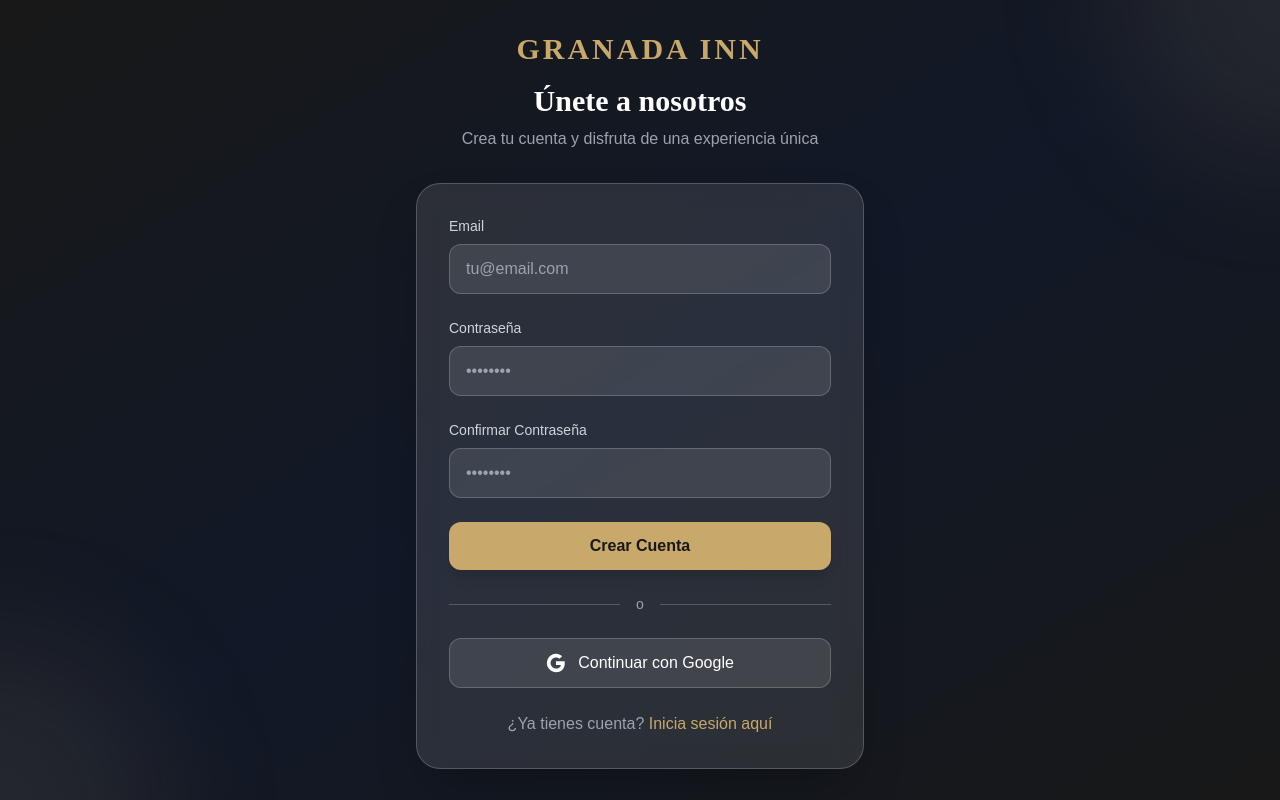
Test: Auth Pages › RegisterPage › validates password length
Type "test@example.com" into the field with placeholder "tu@email.com".
click(640, 269); type("test@example.com")  # box [449,244,831,294]
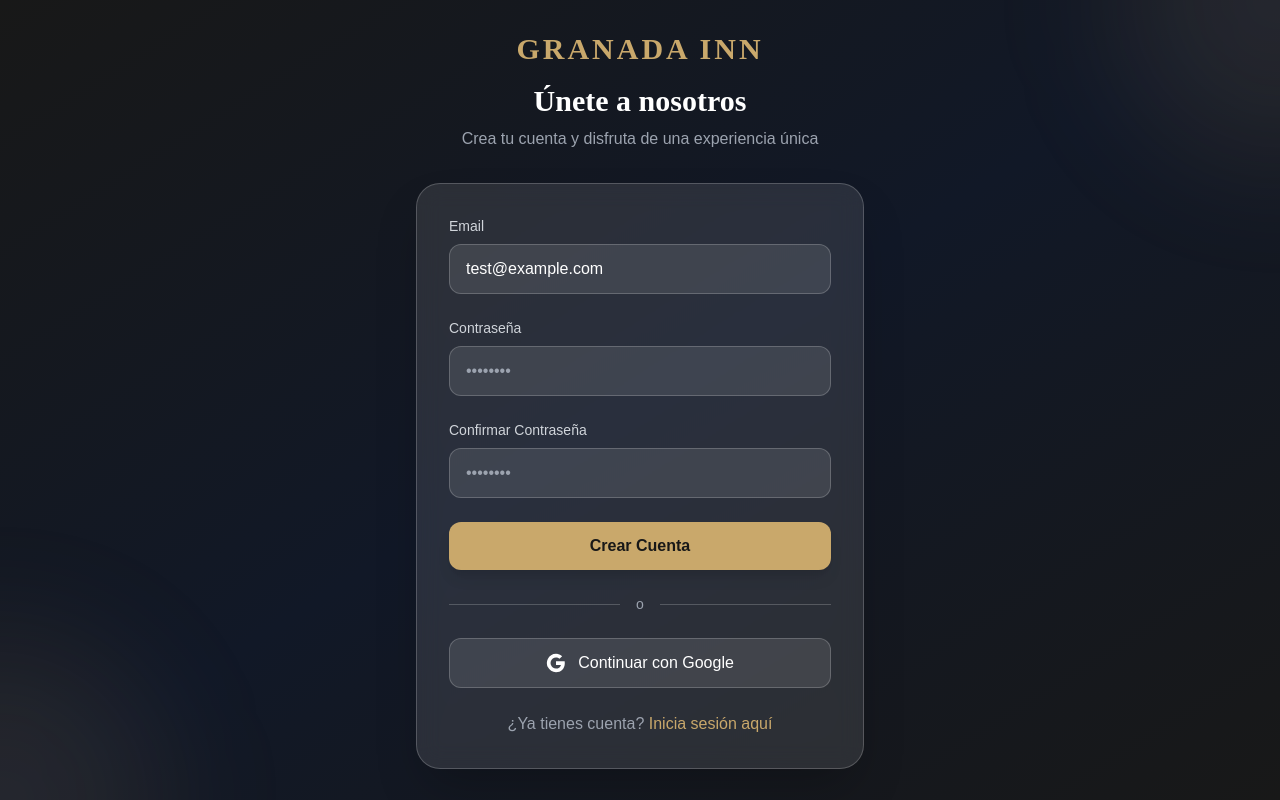
Type "123" into the 1st password field with placeholder "••••••••".
click(640, 371); type("123")  # box [449,346,831,396]
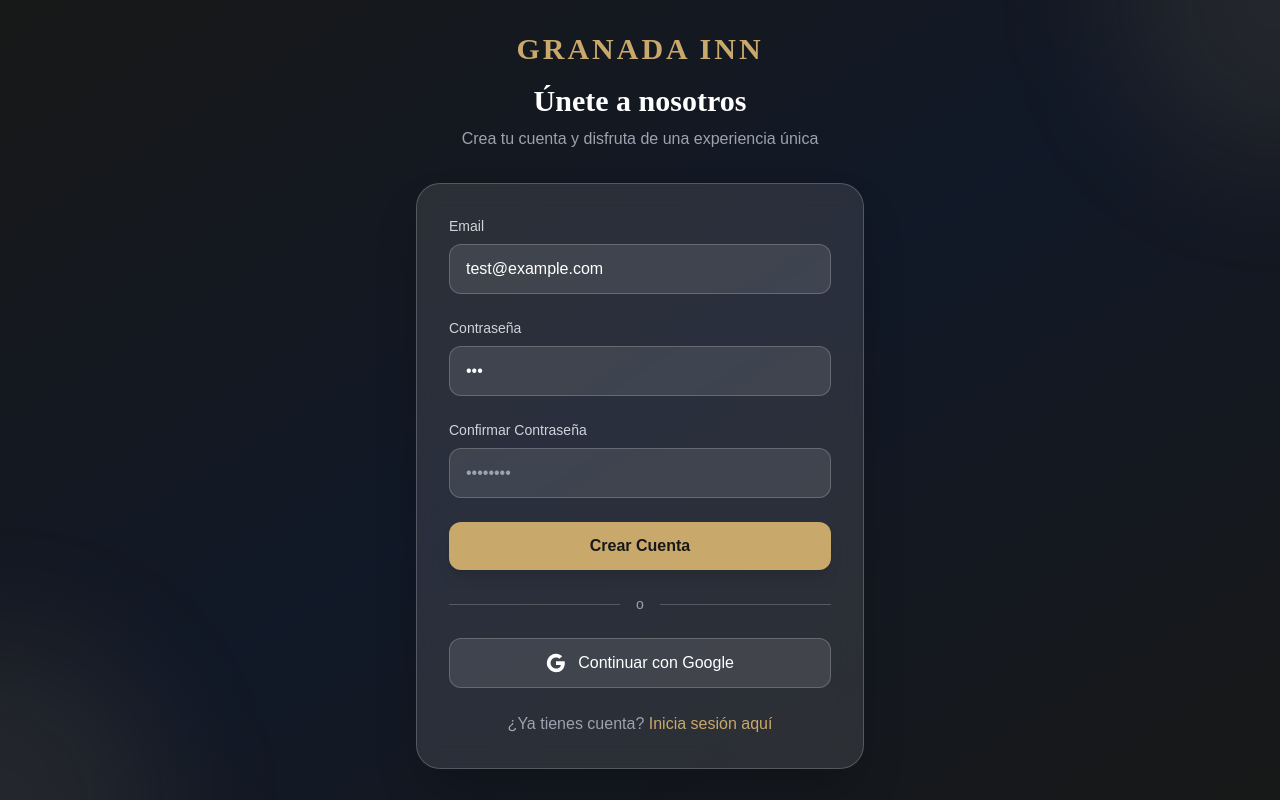
Type "123" into the password field with placeholder "••••••••".
click(640, 473); type("123")  # box [449,448,831,498]
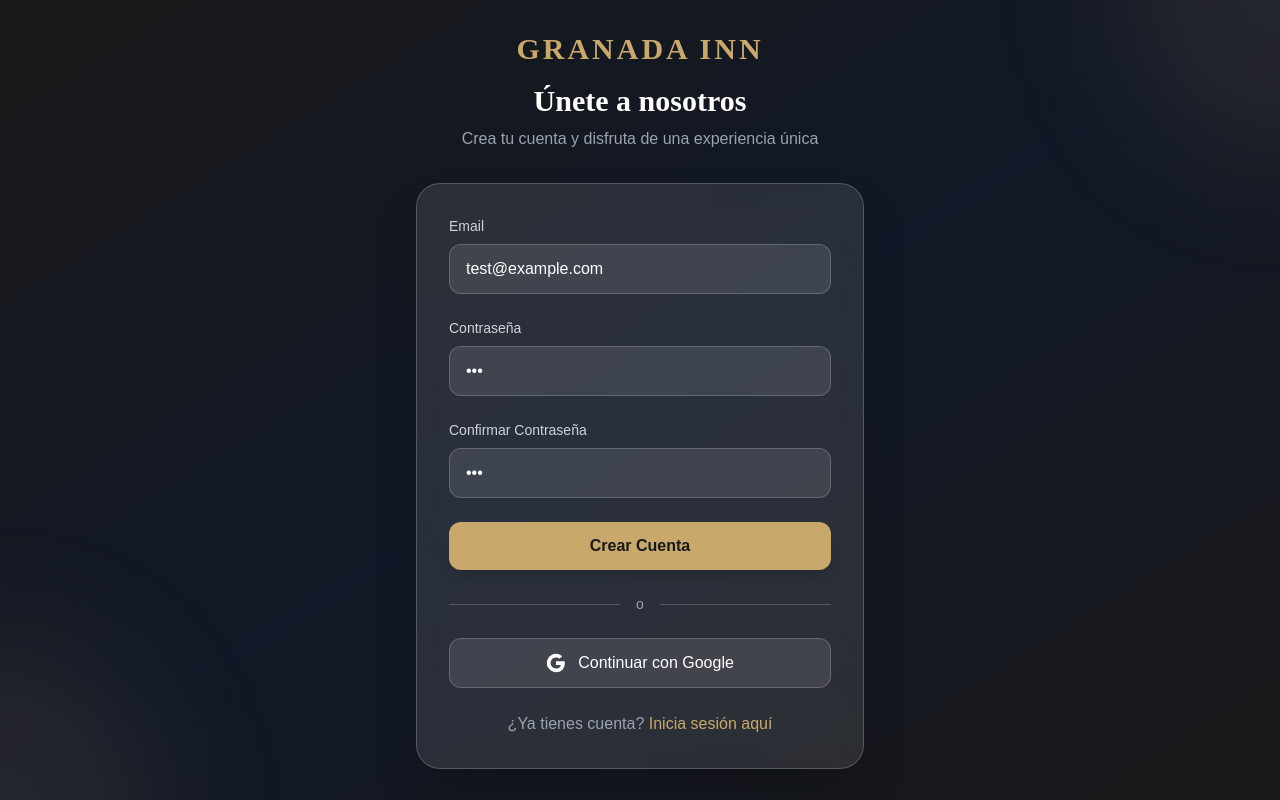
Click the button "Crear Cuenta".
click(640, 546)  # box [449,522,831,570]
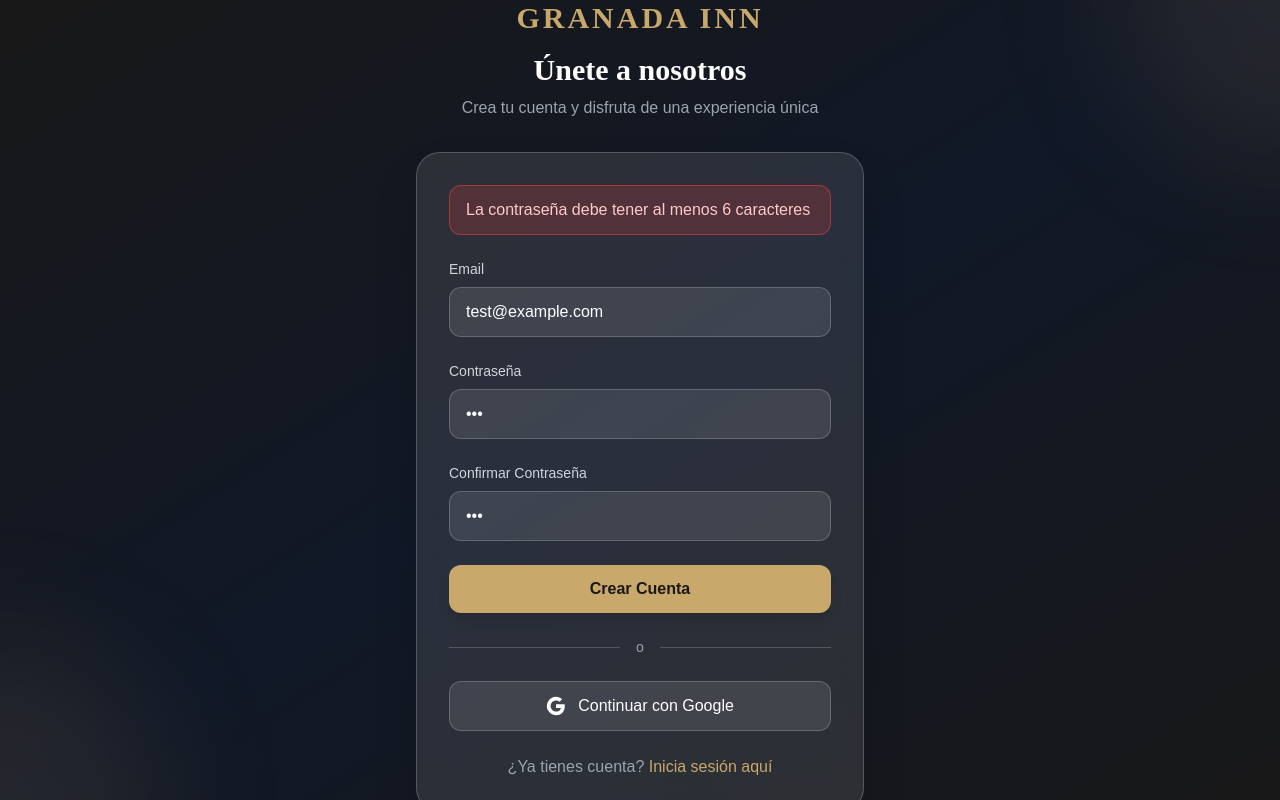
Result: the text "La contraseña debe tener al menos 6 caracteres" is shown at [449,185,831,235]
